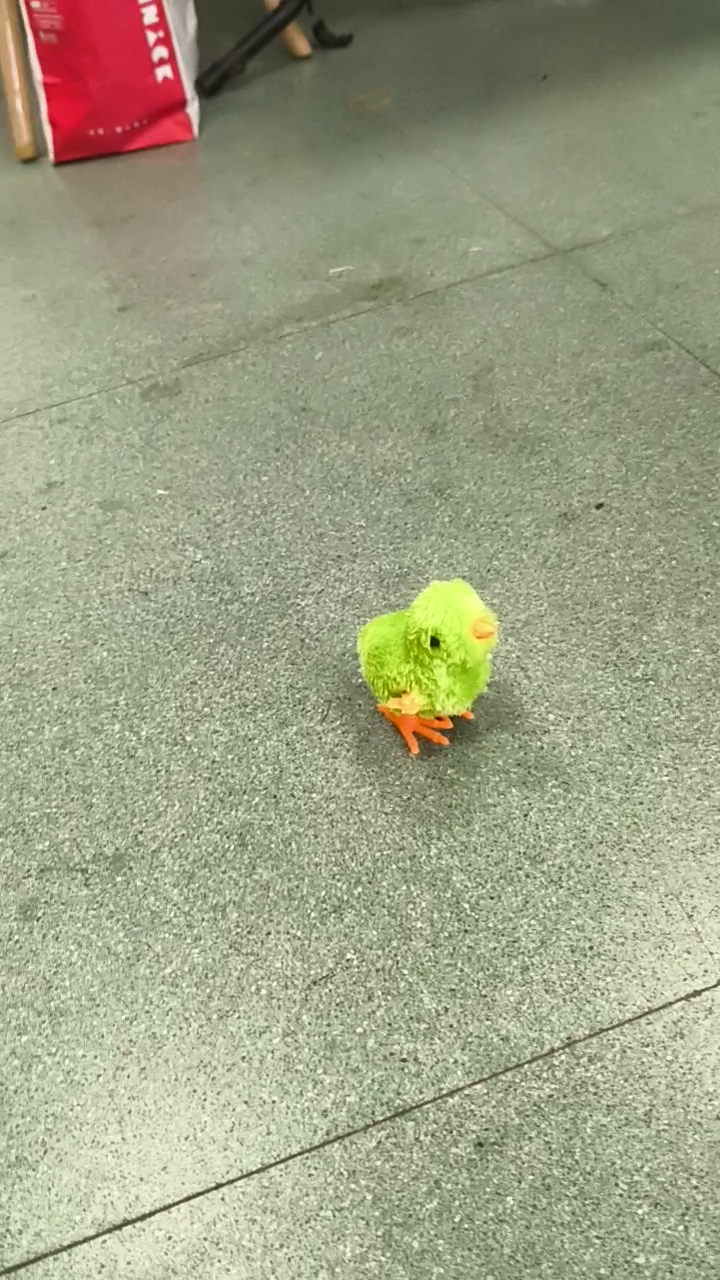green chicken: (353, 573, 509, 759)
